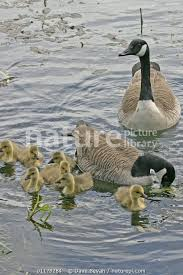goose: (69, 119, 178, 195), (112, 36, 183, 136)
